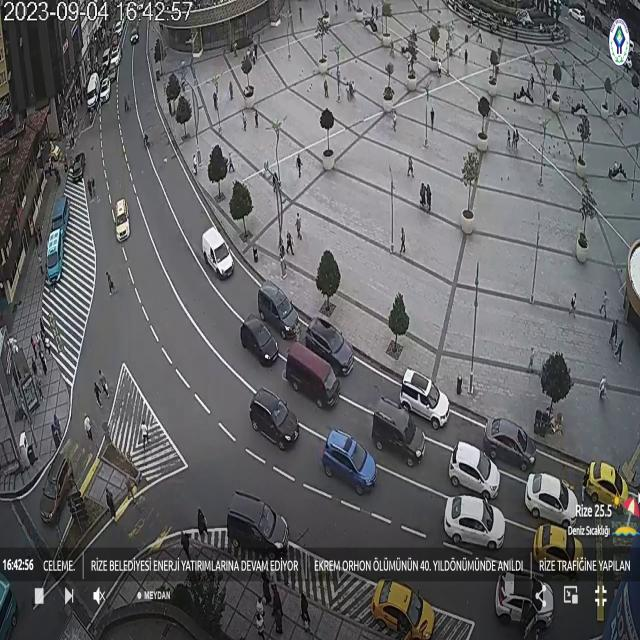car: (323, 430, 380, 495), (253, 280, 302, 334), (202, 228, 238, 284)
